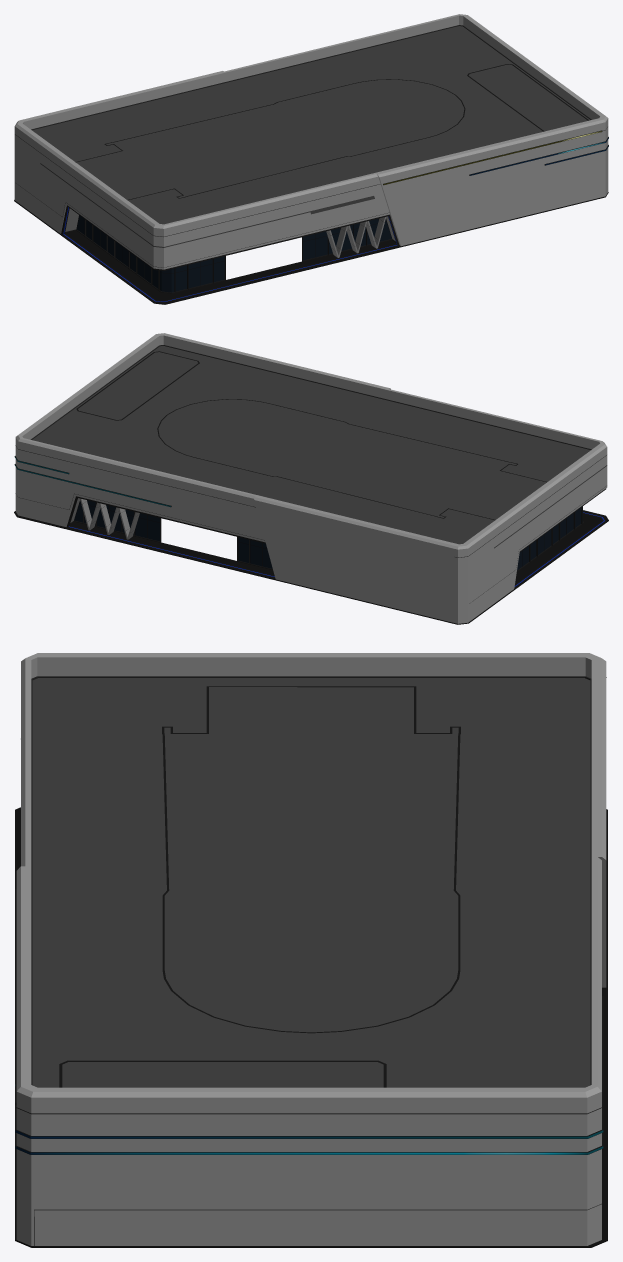
File: Building_005_1st_L1.fbx
3 views of the same model, one above another, from view 1: azimuth 30°, elevation 25°; view 2: azimuth 150°, elevation 25°; view 3: azimuth 270°, elevation 25° (orthographic). The views are drawn at different scales.
Visible parts, largest first — view 1: Building_005_1st_L1; view 2: Building_005_1st_L1; view 3: Building_005_1st_L1.
Boxes of the visible parts, x1=… form: Building_005_1st_L1: x1=14, y1=14, x2=608, y2=304; Building_005_1st_L1: x1=14, y1=333, x2=608, y2=624; Building_005_1st_L1: x1=15, y1=653, x2=607, y2=1247.
Bounding box in the file's own units: 71.22 × 11.5 × 40.2.
